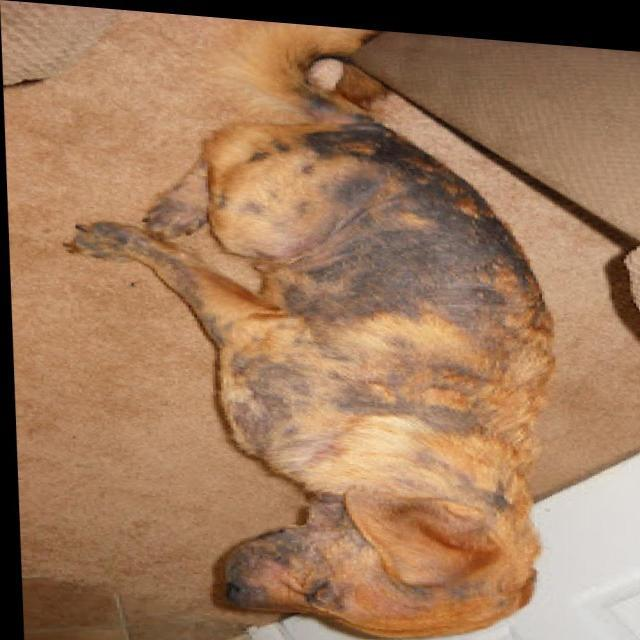allergic dermatitis: (305, 198, 521, 350), (305, 132, 437, 216)
